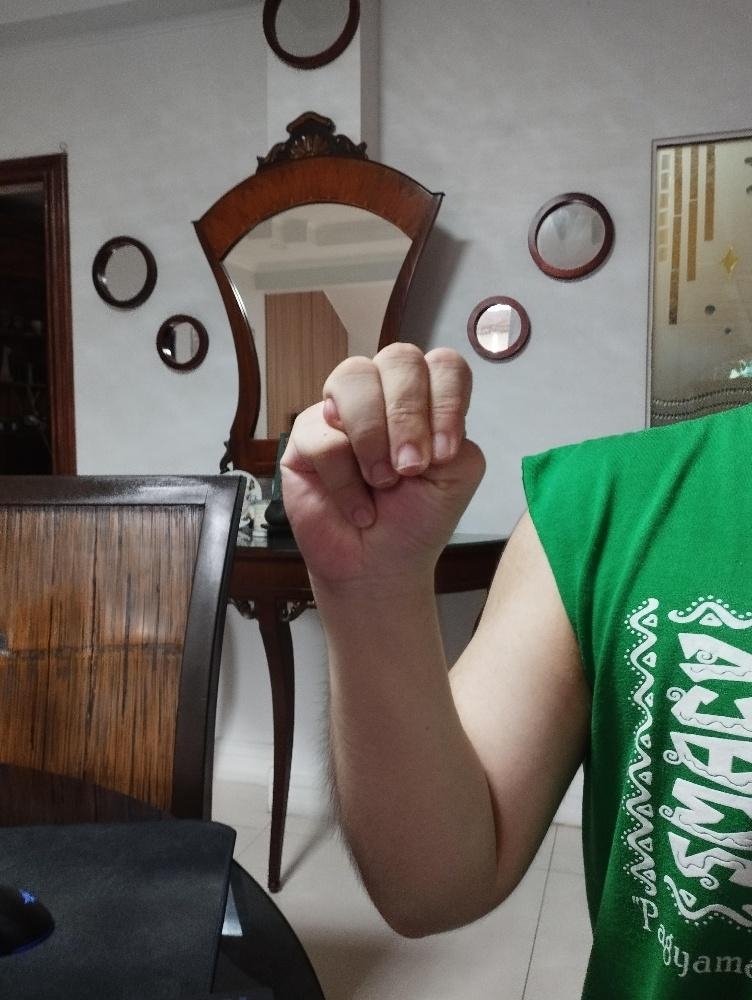m: (276, 338, 489, 585)
